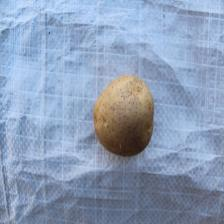Diseased-fungal potato: (92, 71, 158, 158)
